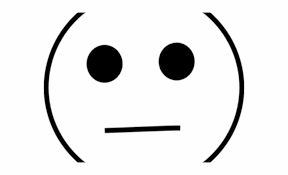triste: (30, 7, 256, 164), (70, 30, 212, 143)
